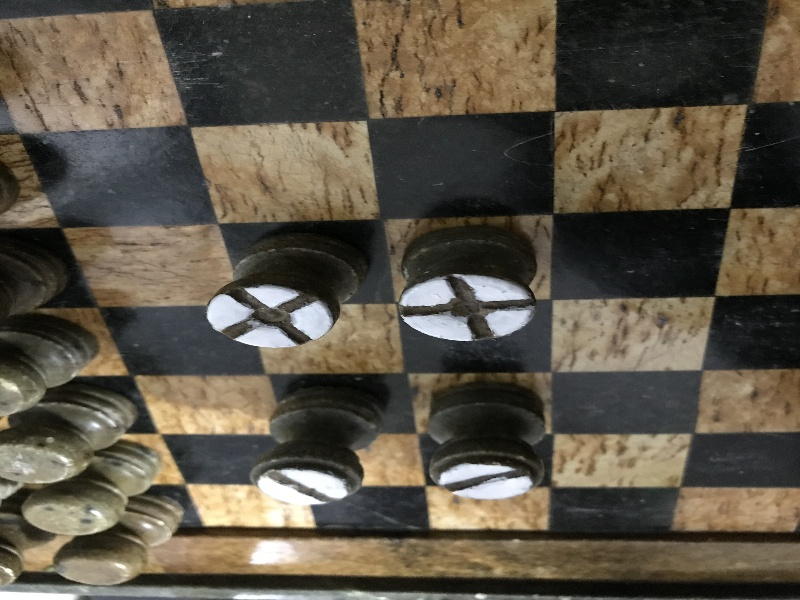WhiteBishop: (207, 232, 369, 348), (397, 228, 537, 342)
WhiteRook: (251, 391, 381, 505), (425, 385, 546, 499)
